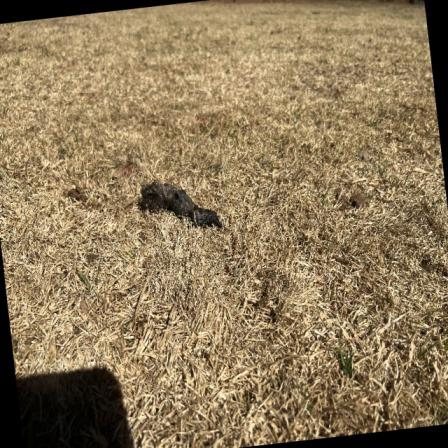dog-poop: (138, 169, 222, 231)
